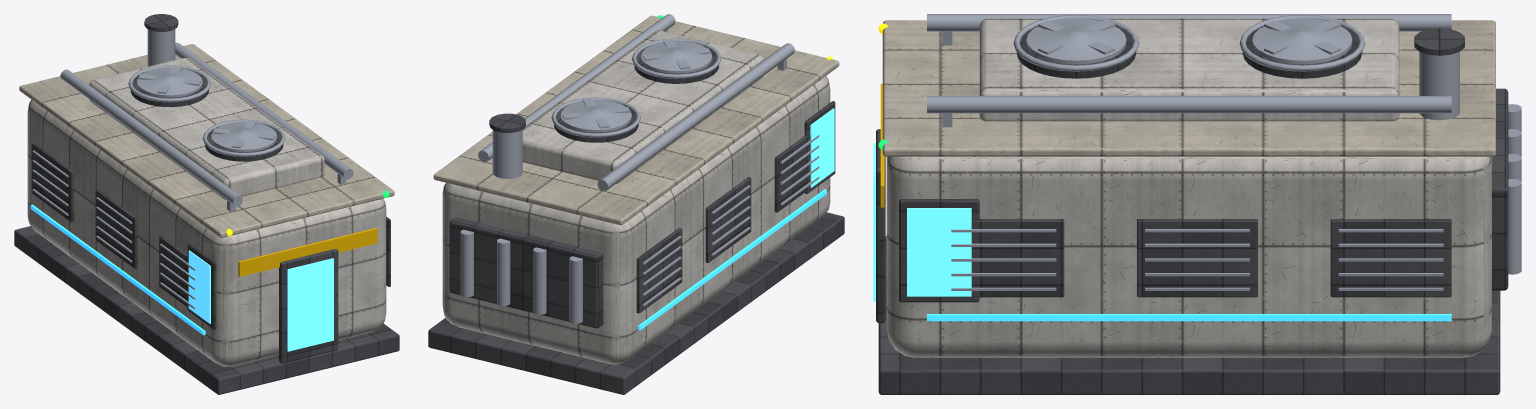
Rendered from HouseLong.glb.
3 views of the same model, side by side, from view 1: azimuth 30°, elevation 25°; view 2: azimuth 150°, elevation 25°; view 3: azimuth 270°, elevation 25° (orthographic). The views are drawn at different scales.
Visible parts, largest first — view 1: OGS_Module_Mesh; view 2: OGS_Module_Mesh; view 3: OGS_Module_Mesh.
Part boxes in pixels (x1,y1,x2,y2): OGS_Module_Mesh: [14, 14, 399, 394]; OGS_Module_Mesh: [428, 14, 844, 394]; OGS_Module_Mesh: [873, 14, 1521, 394].
Size of the model in its own units: 3.96 by 4.33 by 8.03.
9 materials, 3 textured.
